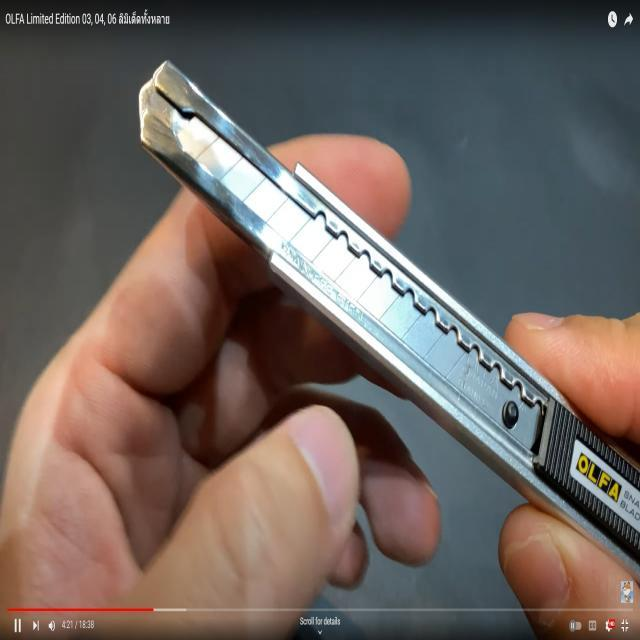cutter: (0, 35, 640, 640)
